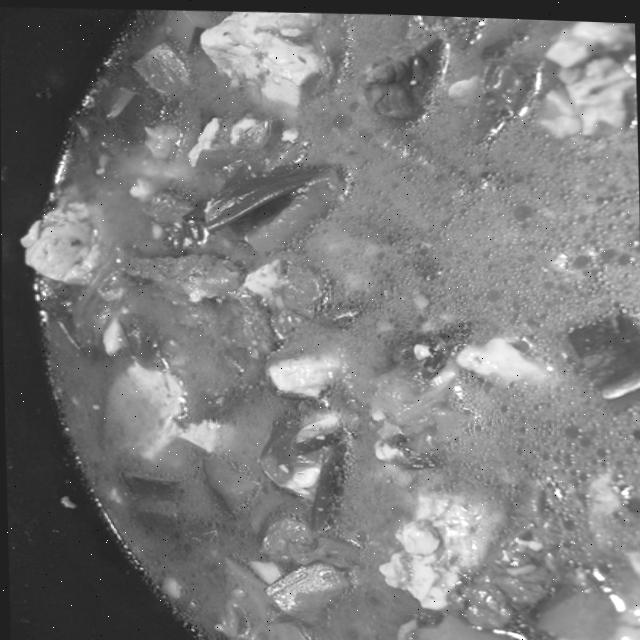汤锅炖物: (6, 15, 640, 640)
